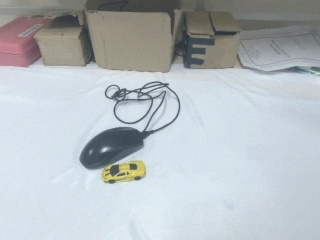box: (87, 1, 186, 73), (181, 11, 242, 70), (33, 2, 88, 67), (1, 10, 51, 71)
mouse: (79, 127, 144, 170)
toy_car: (102, 161, 145, 184)
